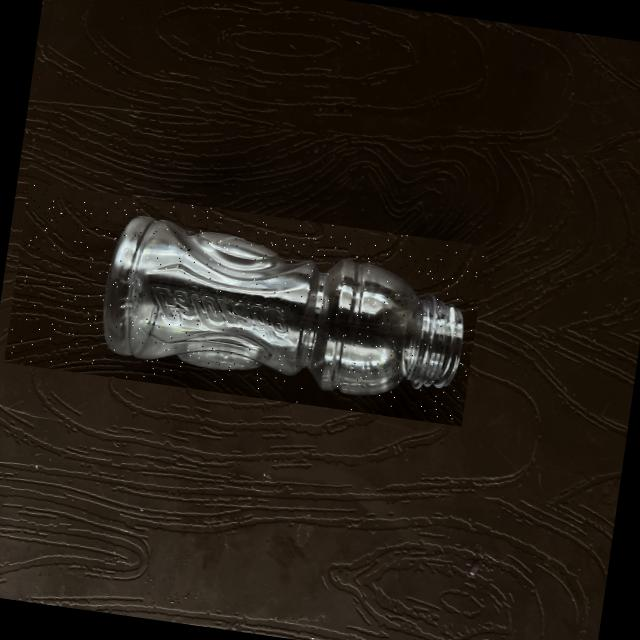PET_ClearBottle: (3, 182, 486, 427)
